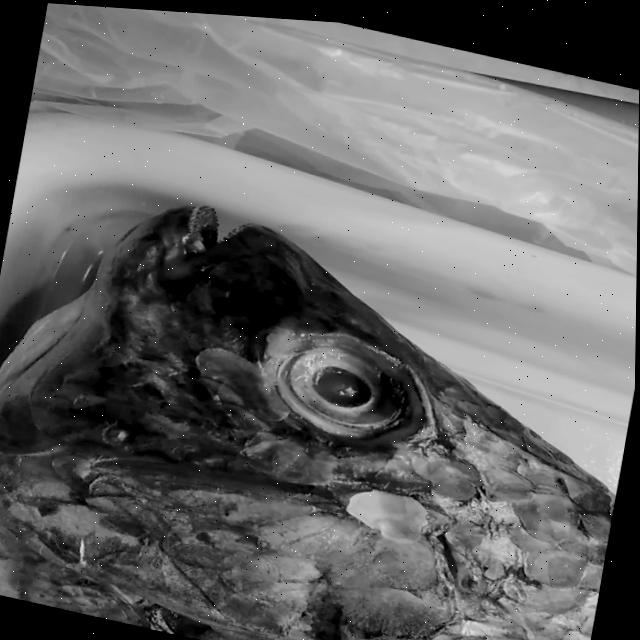Non-Fresh: (246, 286, 456, 478)
